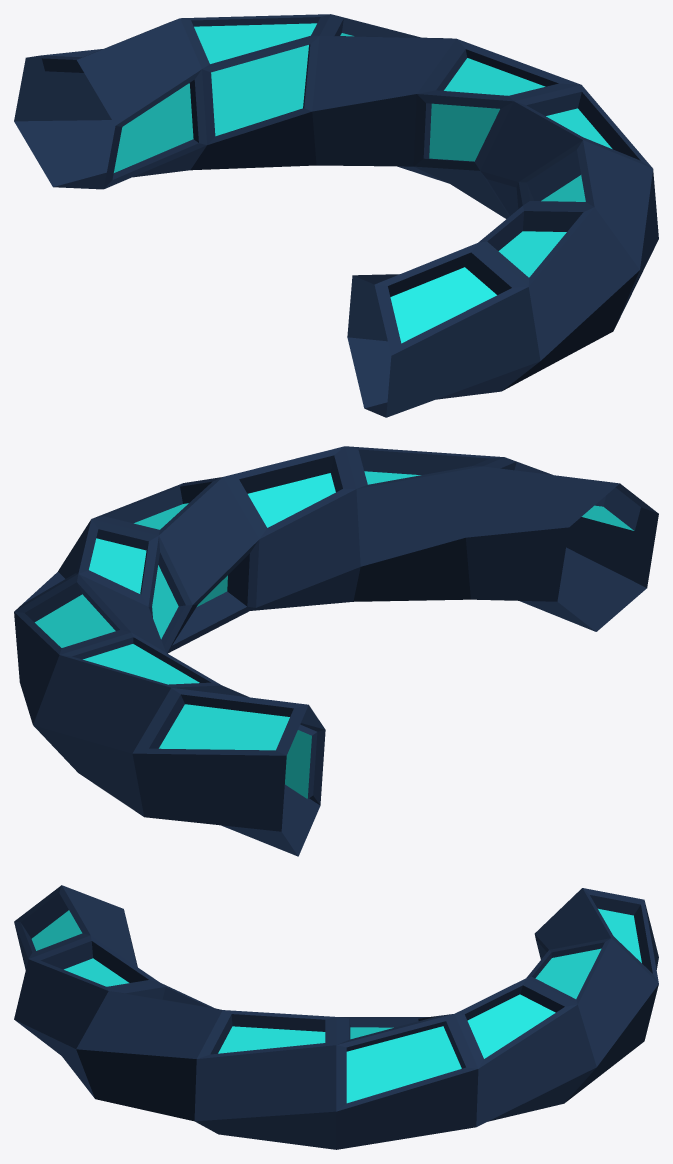
File: RingGate.fbx
The picture shows the model from 3 angles, top to bottom: view 1: azimuth 30°, elevation 25°; view 2: azimuth 150°, elevation 25°; view 3: azimuth 270°, elevation 25°; orthographic projection. The views are drawn at different scales.
Visible parts, largest first — view 1: RingGate; view 2: RingGate; view 3: RingGate.
Boxes of the visible parts, left/top/right/bottom form: RingGate: left=14, top=14, right=658, bottom=417; RingGate: left=14, top=446, right=658, bottom=856; RingGate: left=14, top=885, right=658, bottom=1149.
Bounding box in the file's own units: 1.53 × 0.4986 × 2.42.
